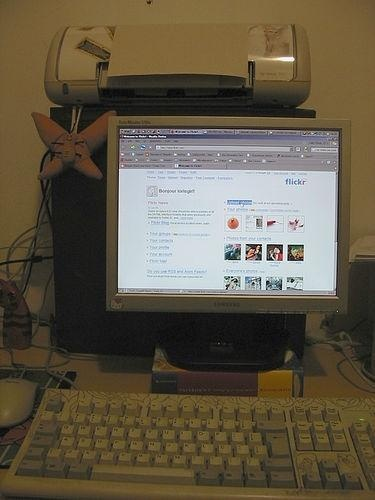tvmonitor: (103, 114, 354, 373)
